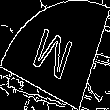M_SW: (31, 23, 79, 87)
